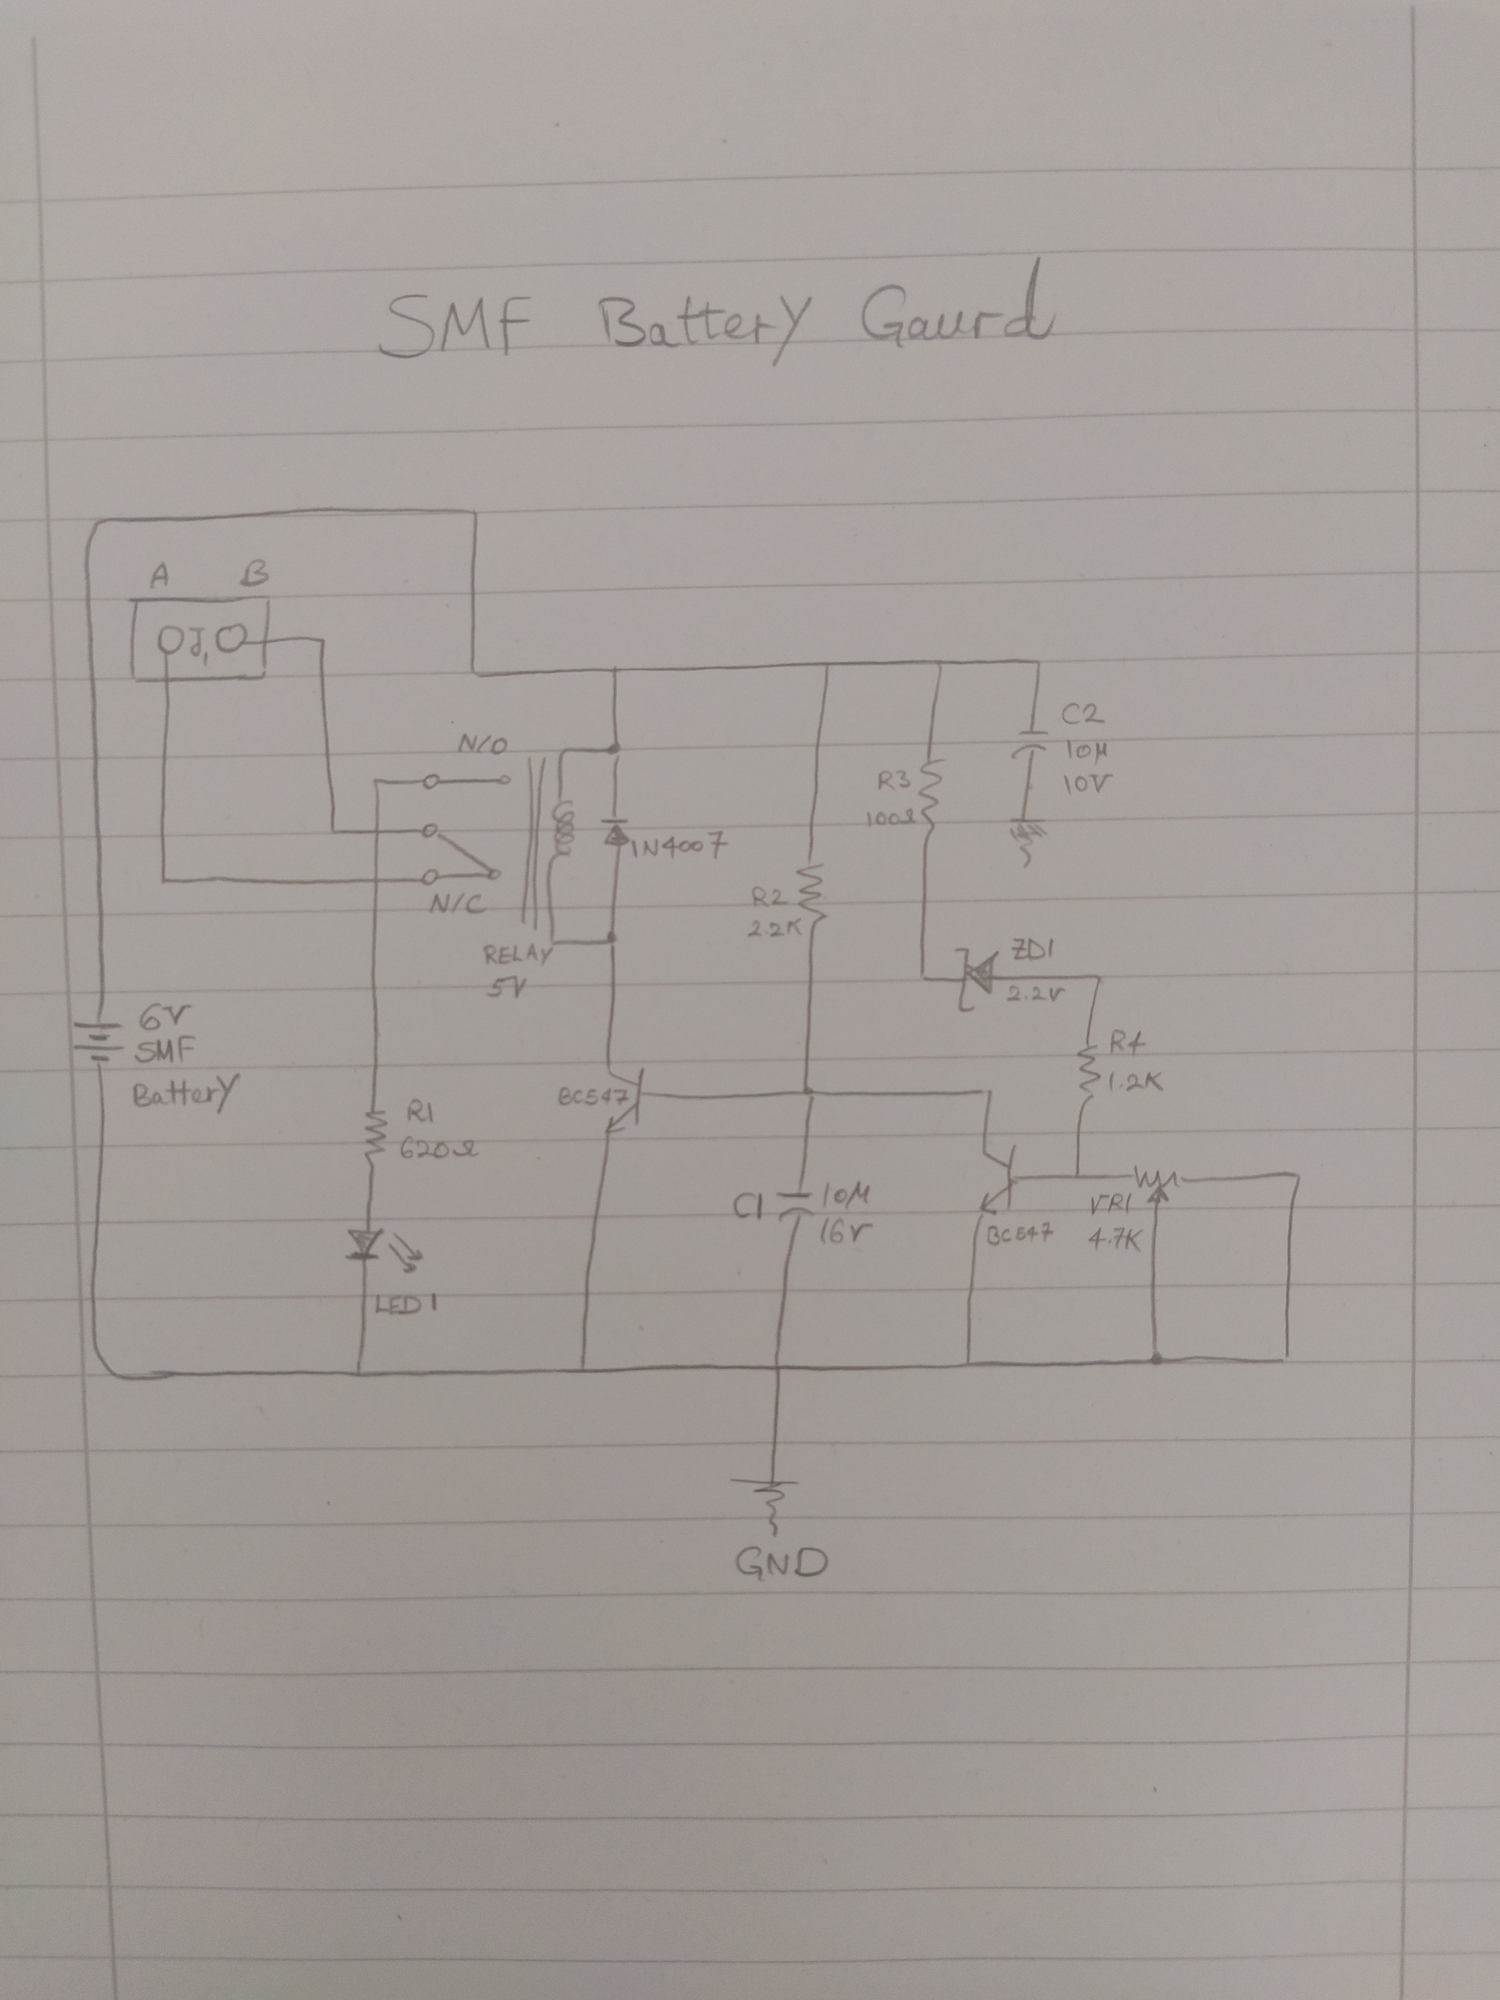capacitor.unpolarized: (1008, 728, 1051, 764), (774, 1189, 818, 1224)
crossover: (370, 874, 383, 887), (370, 825, 383, 836)
diode: (952, 945, 1001, 1014), (599, 813, 633, 849)
diode.light_emitting: (340, 1227, 429, 1276)
gnd: (726, 1472, 800, 1539), (1005, 814, 1049, 868)
junction: (88, 1342, 128, 1384), (79, 512, 106, 543), (603, 739, 626, 761), (463, 665, 488, 683), (1145, 1350, 1168, 1369), (603, 928, 622, 950), (799, 1085, 822, 1102), (769, 1357, 789, 1376), (574, 1359, 592, 1378), (314, 631, 332, 650), (154, 871, 173, 890), (350, 1365, 370, 1383), (1287, 1169, 1309, 1184), (1276, 1350, 1294, 1369), (1090, 970, 1109, 987), (915, 969, 933, 986), (465, 506, 484, 521), (328, 822, 343, 839), (1070, 1169, 1089, 1183), (931, 657, 947, 672), (977, 1087, 997, 1098), (1030, 657, 1046, 671), (818, 657, 832, 672), (961, 1357, 978, 1370), (608, 663, 624, 676), (370, 775, 381, 786)
relay: (414, 743, 578, 951)
resistor: (794, 857, 830, 929), (915, 754, 945, 839), (1075, 1043, 1103, 1109), (359, 1107, 389, 1164)
resistor.adjustable: (1128, 1162, 1188, 1206)
terminal: (214, 620, 249, 655), (156, 624, 186, 657)
text: (373, 254, 1057, 370), (131, 1071, 243, 1115), (733, 1542, 830, 1583), (630, 828, 731, 861), (397, 1132, 482, 1161), (132, 1033, 199, 1065), (556, 1083, 630, 1110), (372, 1290, 440, 1318), (985, 1219, 1056, 1246), (136, 1002, 195, 1033), (481, 942, 555, 967), (425, 888, 490, 917), (1086, 1225, 1145, 1255), (818, 1216, 874, 1247), (819, 1180, 871, 1211), (1106, 1068, 1166, 1094), (455, 731, 512, 757), (1064, 735, 1111, 767), (1004, 983, 1067, 1005), (745, 915, 804, 939), (1062, 770, 1114, 795), (1059, 699, 1108, 726), (1008, 935, 1057, 962), (1108, 1027, 1149, 1058), (485, 973, 528, 1002), (730, 1191, 766, 1224), (1089, 1191, 1136, 1216), (187, 624, 214, 668), (863, 805, 915, 827), (236, 557, 273, 589), (748, 883, 789, 909), (874, 765, 912, 792), (403, 1096, 438, 1124), (147, 559, 172, 591)
transistor: (971, 1142, 1019, 1220), (599, 1065, 648, 1137)
voltage.dc: (69, 1016, 128, 1068)
